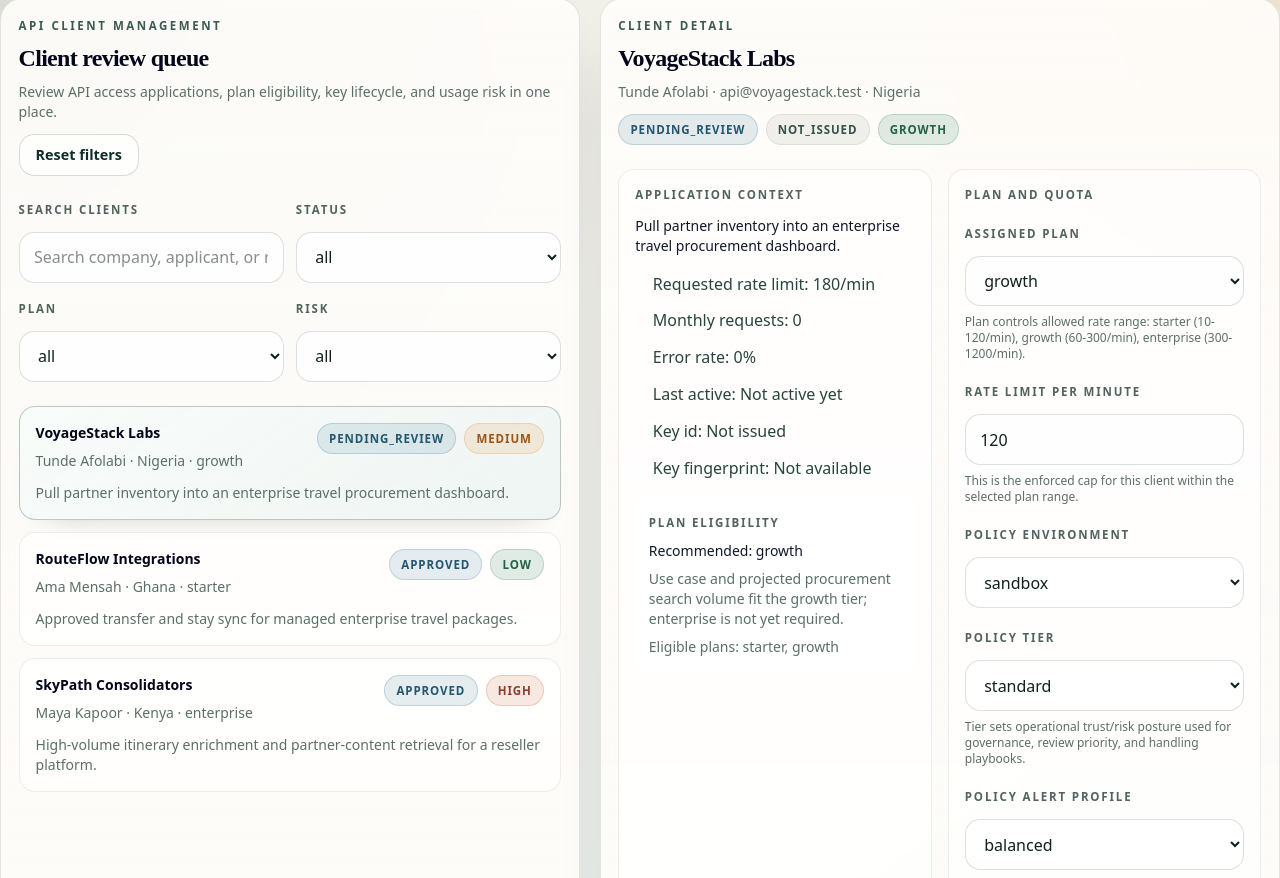
ApiClientsWorkspace › regenerates keys for active clients
Click the button "SkyPath Consolidators".
click(114, 684)  # box [19, 658, 561, 792]
(page scrolled)
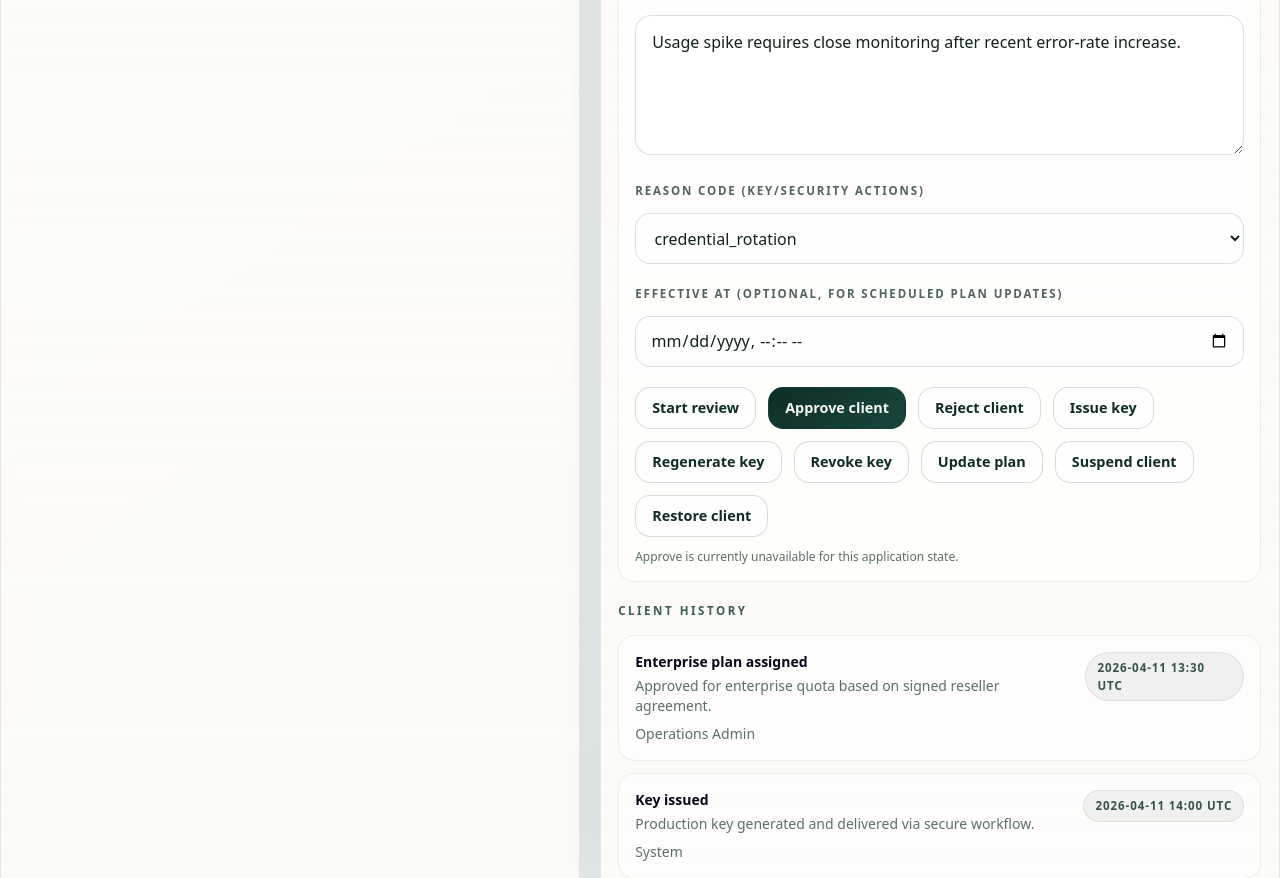
Click the button "Regenerate key".
click(708, 462)  # box [635, 441, 782, 483]
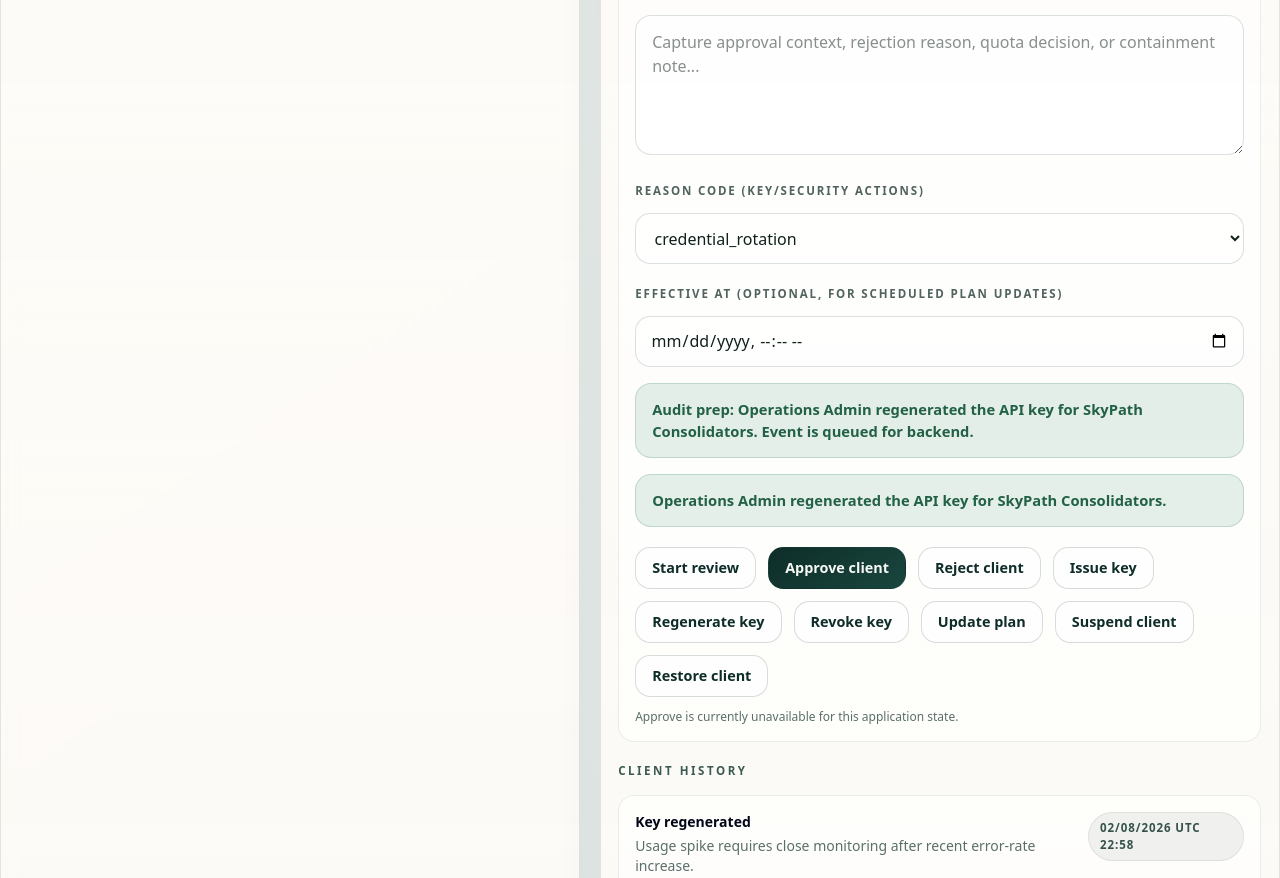
Check: the text "regenerated the API key" is shown, box [652, 399, 1143, 441]
Check: the text "Key regenerated" is shown, box [635, 812, 751, 831]
